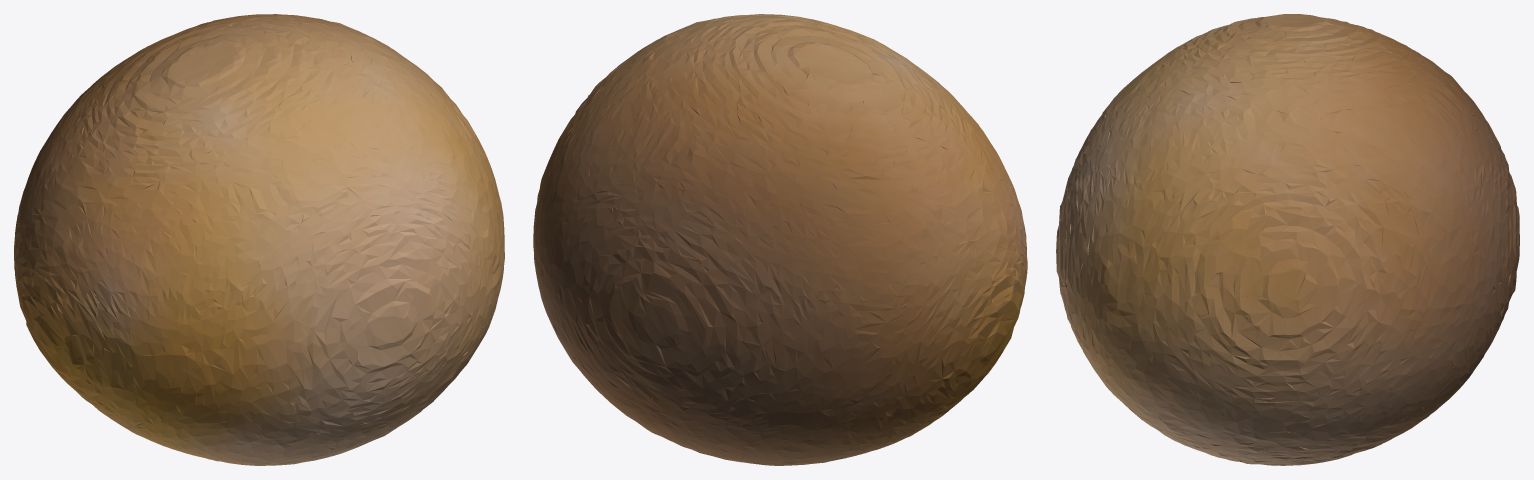
The model's file is egg_3.glb.
3 renders of one model, left to right at view 1: azimuth 30°, elevation 25°; view 2: azimuth 150°, elevation 25°; view 3: azimuth 270°, elevation 25°, orthographic.
Visible parts, largest first — view 1: geometry_0; view 2: geometry_0; view 3: geometry_0.
Boxes of the visible parts, bbox=[...] form: geometry_0: bbox=[14, 14, 504, 465]; geometry_0: bbox=[533, 14, 1027, 465]; geometry_0: bbox=[1056, 14, 1519, 465].
Bounding box in the file's own units: 1 × 0.8869 × 0.9286.
